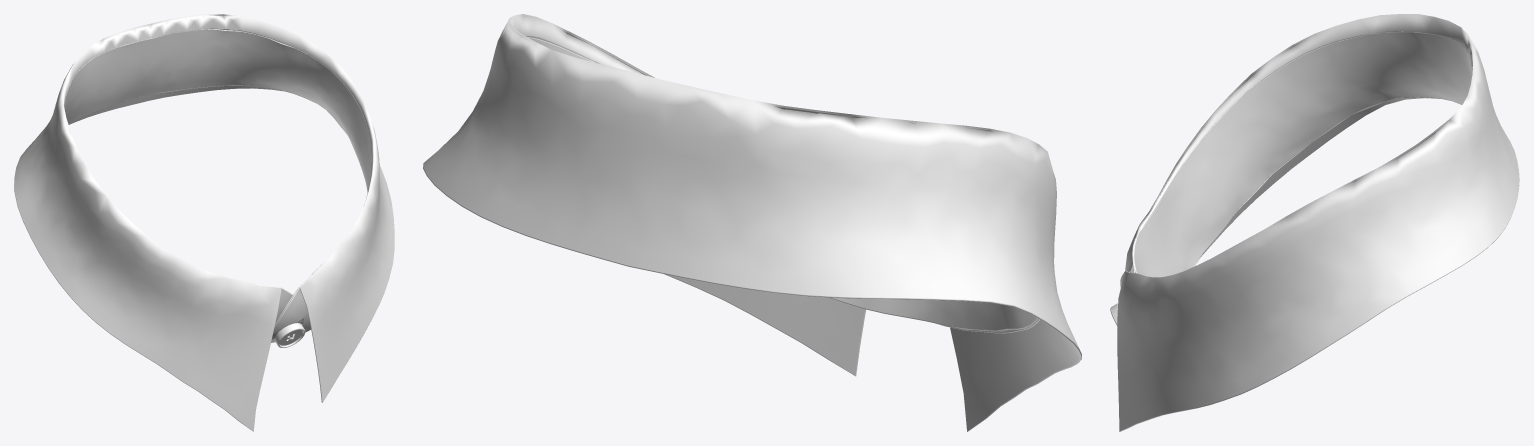
The model's file is Forword_Point_Collar.glb.
3 views of the same model, side by side, from view 1: azimuth 30°, elevation 25°; view 2: azimuth 150°, elevation 25°; view 3: azimuth 270°, elevation 25° (orthographic). The views are drawn at different scales.
Visible parts, largest first — view 1: Pattern_4935173_Node, inner_Node, Pattern_4935171_Node, button.001; view 2: Pattern_4935173_Node, inner_Node; view 3: Pattern_4935173_Node, inner_Node, Pattern_4935171_Node.
Part boxes in pixels (x1,y1,x2,y2): Pattern_4935173_Node: (14, 14, 394, 431); inner_Node: (64, 29, 371, 324); Pattern_4935171_Node: (68, 28, 371, 342); button.001: (274, 323, 305, 347); Pattern_4935173_Node: (423, 14, 1081, 431); inner_Node: (528, 37, 1038, 330); Pattern_4935173_Node: (1117, 14, 1519, 431); inner_Node: (1128, 31, 1471, 277); Pattern_4935171_Node: (1120, 31, 1462, 287).
Bounding box in the file's own units: 15.95 × 13.19 × 13.26.
Materials: 6 (1 with a texture image).
